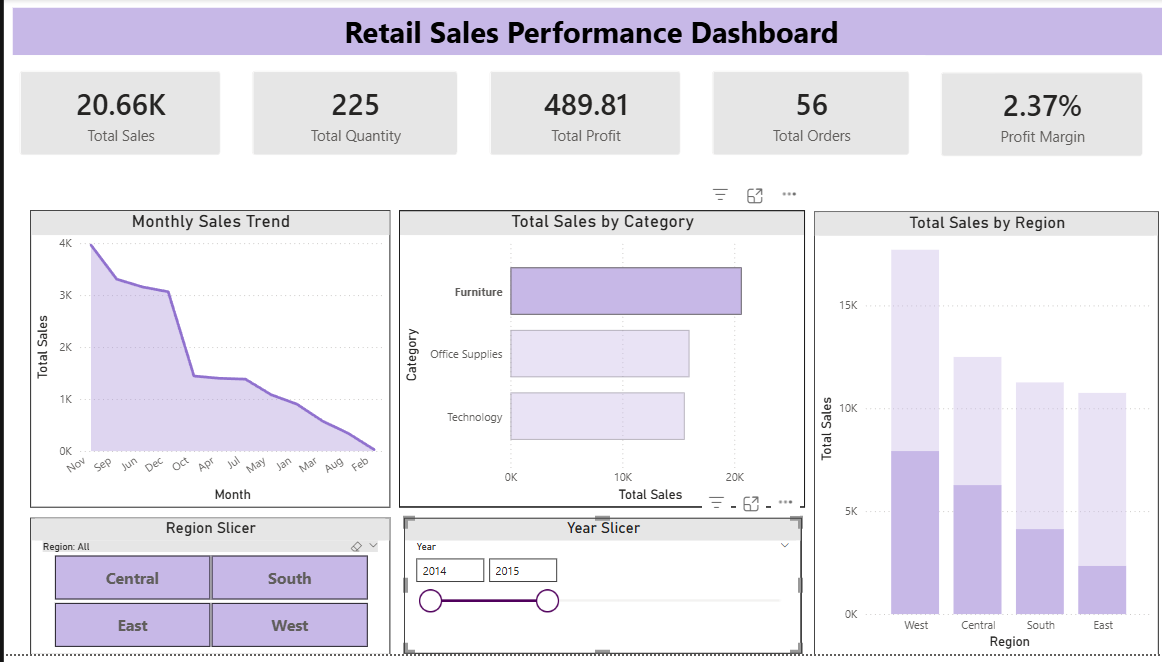

The dashboard page shown, as its layout file describes it:
{"tool":"powerbi","page":{"name":"Executive Overview","canvas":[1280,720],"ordinal":0},"visuals":[{"type":"textbox","box":[9.6,9.6,1270.7,52.1],"z":0},{"type":"cardVisual","fields":{"Data":["Sample - Superstore.Total Sales"]},"box":[0,61.7,255.2,127.6],"z":1},{"type":"lineChart","title":"Monthly Sales Trend","fields":{"Y":["Sample - Superstore.Total Sales"],"Category":["Date Table.Month"]},"box":[28.8,231.9,395.2,326.6],"z":7},{"type":"clusteredBarChart","fields":{"Category":["Sample - Superstore.Category"],"Y":["Sample - Superstore.Total Sales"]},"box":[433.6,231.9,446,326.6],"z":8},{"type":"clusteredColumnChart","fields":{"Category":["Sample - Superstore.Region"],"Y":["Sample - Superstore.Total Sales"]},"box":[889.2,233.3,378.7,487.1],"z":9},{"type":"slicer","title":"Year Slicer","fields":{"Values":["Date Table.Year"]},"box":[439.1,569.5,436.4,149.6],"z":10},{"type":"slicer","title":"Region Slicer","fields":{"Values":["Sample - Superstore.Region"]},"box":[29,570,395,150],"z":11},{"type":"cardVisual","fields":{"Data":["Sample - Superstore.Total Quantity"]},"box":[255.2,61.7,260.7,127.6],"z":12},{"type":"cardVisual","fields":{"Data":["Sample - Superstore.Total Profit"]},"box":[516,61.7,244.3,127.6],"z":13},{"type":"cardVisual","fields":{"Data":["Sample - Superstore.Total Orders"]},"box":[760.2,61.7,251.1,127.6],"z":14},{"type":"cardVisual","fields":{"Data":["Sample - Superstore.Profit Margin"]},"box":[1011.3,63.1,256.6,127.6],"z":15}]}

Visuals, with their boxes in screenshot pixels (x1, y1, x2, y2), scaled from the page's 1280x720 canvas onto the 1162x662 screenshot:
textbox: l=9, t=9, r=1161, b=57
cardVisual - Sample - Superstore.Total Sales: l=0, t=57, r=232, b=174
"Monthly Sales Trend" lineChart: l=26, t=213, r=385, b=514
clusteredBarChart - Sample - Superstore.Category x Sample - Superstore.Total Sales: l=394, t=213, r=799, b=514
clusteredColumnChart - Sample - Superstore.Region x Sample - Superstore.Total Sales: l=807, t=215, r=1151, b=661
"Year Slicer" slicer: l=399, t=524, r=795, b=661
"Region Slicer" slicer: l=26, t=524, r=385, b=661
cardVisual - Sample - Superstore.Total Quantity: l=232, t=57, r=468, b=174
cardVisual - Sample - Superstore.Total Profit: l=468, t=57, r=690, b=174
cardVisual - Sample - Superstore.Total Orders: l=690, t=57, r=918, b=174
cardVisual - Sample - Superstore.Profit Margin: l=918, t=58, r=1151, b=175
